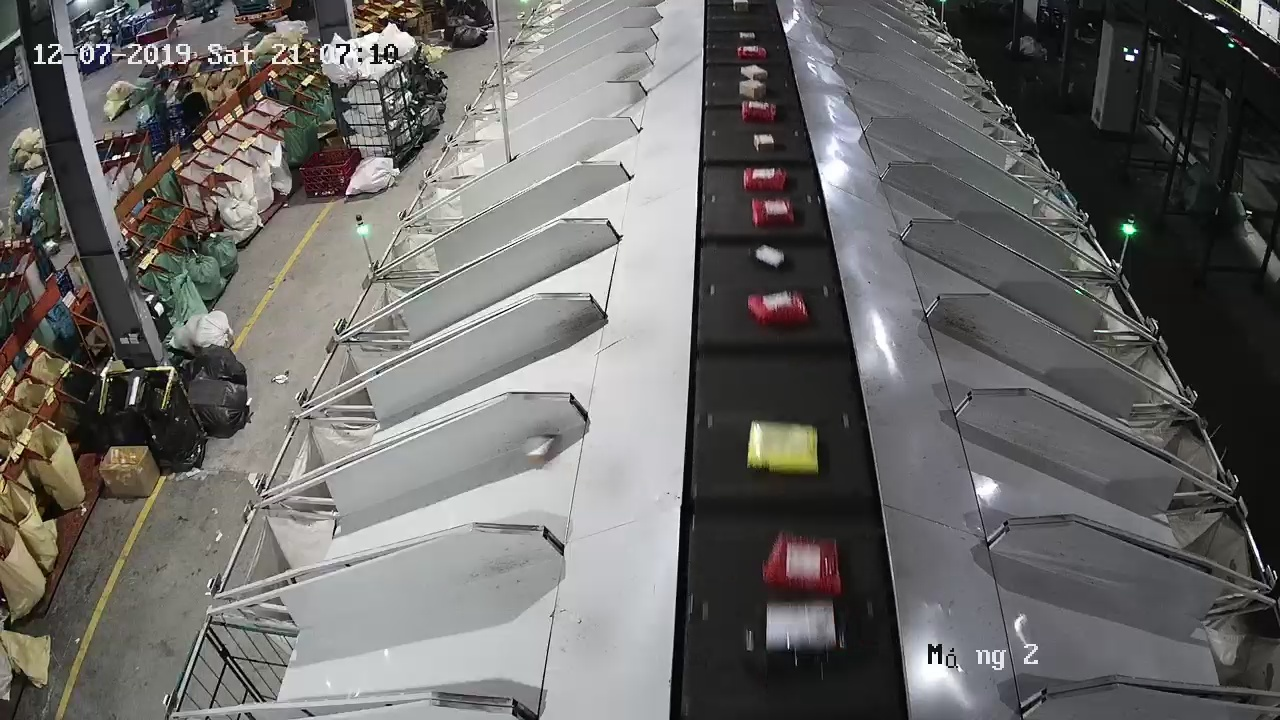parcel: (522, 434, 555, 464)
